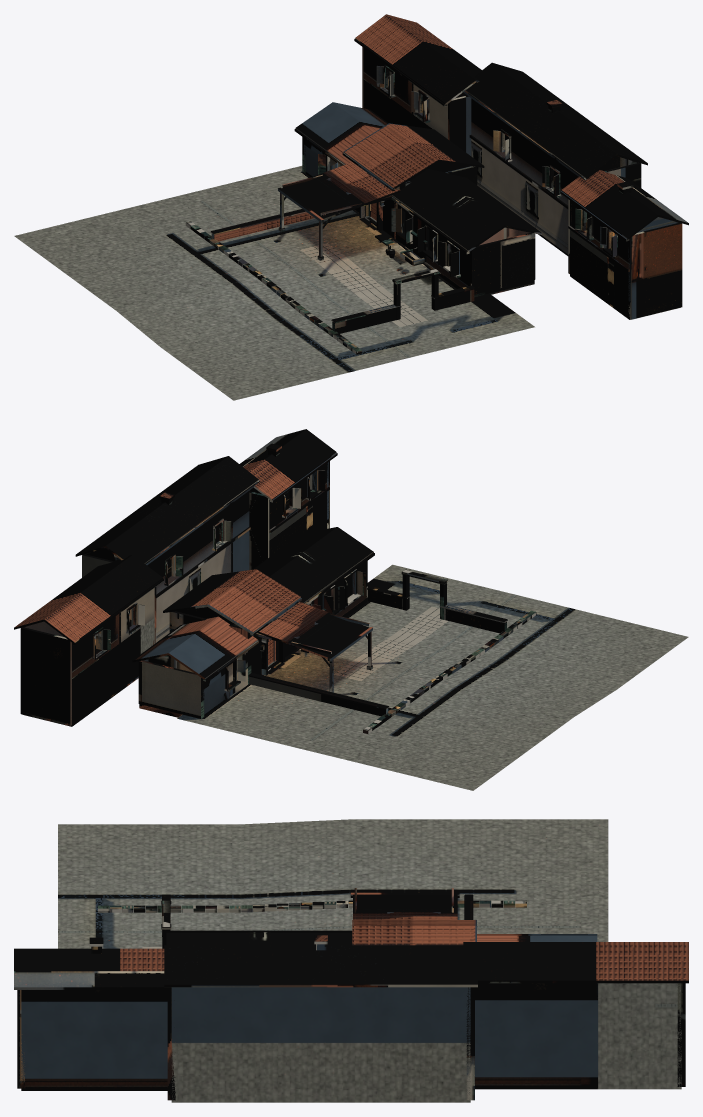
Rendered from unsnapped-control.obj.
3 views of the same model, one above another, from view 1: azimuth 30°, elevation 25°; view 2: azimuth 150°, elevation 25°; view 3: azimuth 270°, elevation 25° (orthographic). The views are drawn at different scales.
Visible parts, largest first — view 1: st_maria_praca_TH_RENDER_EnvironmentBakedAtlas; view 2: st_maria_praca_TH_RENDER_EnvironmentBakedAtlas; view 3: st_maria_praca_TH_RENDER_EnvironmentBakedAtlas.
Boxes of the visible parts, x1=… form: st_maria_praca_TH_RENDER_EnvironmentBakedAtlas: x1=14, y1=14, x2=688, y2=400; st_maria_praca_TH_RENDER_EnvironmentBakedAtlas: x1=14, y1=429, x2=688, y2=790; st_maria_praca_TH_RENDER_EnvironmentBakedAtlas: x1=14, y1=819, x2=688, y2=1102.
Bounding box in the file's own units: 36.03 × 8.95 × 36.8.
